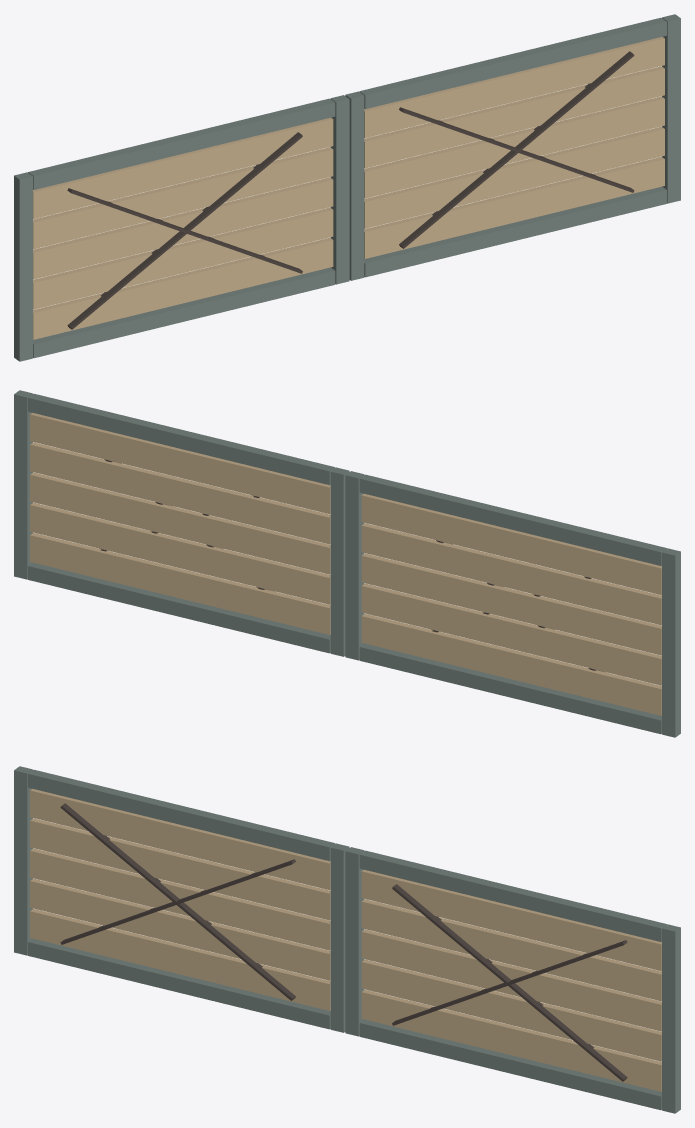
File: SM_PuertaVehiculos_v2_LOD1.fbx
3 views of the same model, one above another, from view 1: azimuth 30°, elevation 25°; view 2: azimuth 150°, elevation 25°; view 3: azimuth 330°, elevation 25° (orthographic).
Visible parts, largest first — view 1: Hoja_O, Hoja_E; view 2: Hoja_O, Hoja_E; view 3: Hoja_E, Hoja_O.
Part boxes in pixels (x1,y1,x2,y2): Hoja_O: [14, 95, 349, 361]; Hoja_E: [345, 14, 680, 280]; Hoja_O: [345, 471, 680, 737]; Hoja_E: [14, 390, 349, 656]; Hoja_E: [345, 847, 680, 1113]; Hoja_O: [14, 766, 349, 1032].
Size of what is drawn, in the model's own units: 7.98 by 2.1 by 0.17.
